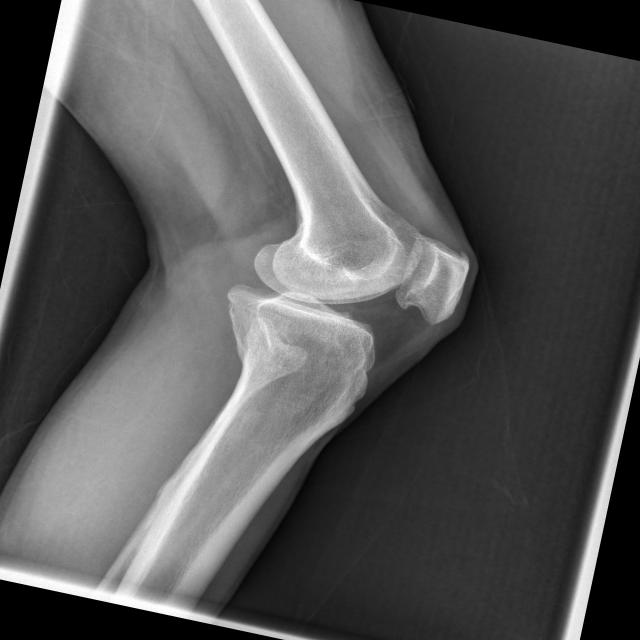Knee: (215, 192, 479, 400)
